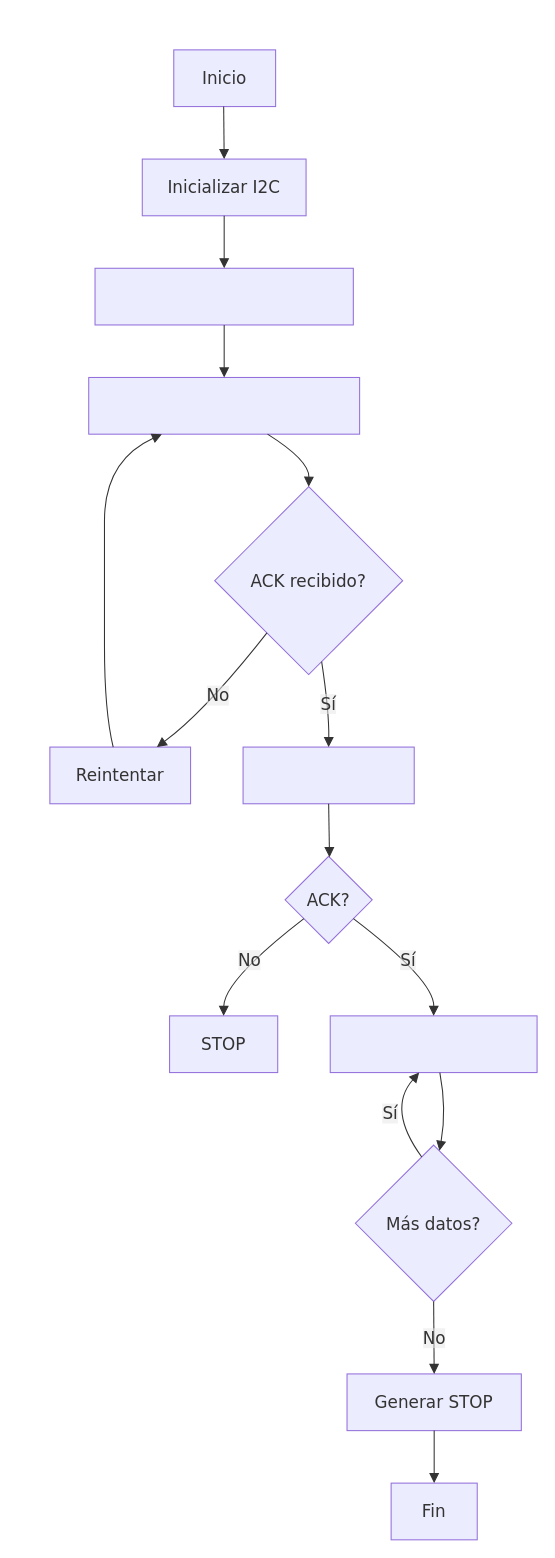
Image size: 555x1558. Some labels were removed from this diagram. Each missing label, with the box of its shape:
Enviar dirección del esclavo: (88, 376, 360, 434)
Enviar registro: (242, 746, 414, 804)
Generar condición START: (94, 267, 353, 325)
Leer o escribir dato: (329, 1015, 537, 1073)
